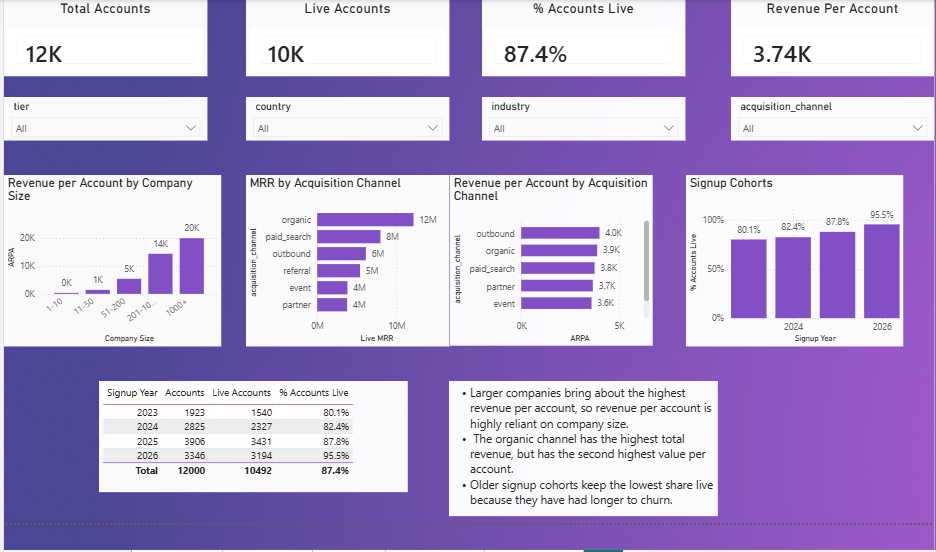

What the dashboard file says about the page in this screenshot:
{"tool":"powerbi","page":{"name":"Customers","canvas":[1280,720],"ordinal":3},"visuals":[{"type":"cardVisual","title":"Live Accounts","fields":{"Data":["subscriptions.Live Accounts"]},"box":[333.7,0,279.5,105.4],"z":0},{"type":"cardVisual","title":"% Accounts Live","fields":{"Data":["subscriptions.% Accounts Live"]},"box":[658.5,0,279.5,105.4],"z":1000},{"type":"cardVisual","title":"Revenue Per Account","fields":{"Data":["Measures (2).ARPA"]},"box":[1001,0,279.5,105.4],"z":2000},{"type":"cardVisual","title":"Total Accounts","fields":{"Data":["subscriptions.Accounts"]},"box":[0,0,279.5,105.4],"z":3000},{"type":"clusteredColumnChart","title":"Revenue per Account by Company Size","fields":{"Y":["Measures (2).ARPA"],"Category":["accounts.Company Size"]},"box":[0,241.5,298.5,235.6],"z":4000},{"type":"clusteredBarChart","title":"MRR by Acquisition Channel","fields":{"Category":["accounts.acquisition_channel"],"Y":["Measures (2).Live MRR"]},"box":[333.7,241.5,279.5,235.6],"z":5000},{"type":"clusteredBarChart","title":"Revenue per Account by Acquisition Channel","fields":{"Category":["accounts.acquisition_channel"],"Y":["Measures (2).ARPA"]},"box":[613.8,240.9,279.4,235.4],"z":6000},{"type":"clusteredColumnChart","title":"Signup Cohorts","fields":{"Category":["accounts.Signup Year"],"Y":["subscriptions.% Accounts Live"]},"box":[938,241.5,299,236],"z":7000},{"type":"tableEx","fields":{"Values":["accounts.Signup Year","subscriptions.Accounts","subscriptions.Live Accounts","subscriptions.% Accounts Live"]},"box":[130.8,524.4,425.3,152.8],"z":8000},{"type":"slicer","fields":{"Values":["plans.tier"]},"box":[0,133.2,279.5,60],"z":10000},{"type":"slicer","fields":{"Values":["accounts.country"]},"box":[333.7,133.2,279.5,60],"z":11000},{"type":"slicer","fields":{"Values":["accounts.industry"]},"box":[658.5,133.2,279.5,60],"z":12000},{"type":"slicer","fields":{"Values":["accounts.acquisition_channel"]},"box":[1001,133.2,279.5,60],"z":13000},{"type":"textbox","box":[612.5,524.4,370.2,185.8],"z":14000}]}

Visuals, with their boxes in screenshot pixels (x1, y1, x2, y2):
"Live Accounts" cardVisual: (x1=246, y1=0, x2=447, y2=76)
"% Accounts Live" cardVisual: (x1=480, y1=0, x2=681, y2=76)
"Revenue Per Account" cardVisual: (x1=727, y1=0, x2=928, y2=76)
"Total Accounts" cardVisual: (x1=5, y1=0, x2=206, y2=76)
"Revenue per Account by Company Size" clusteredColumnChart: (x1=5, y1=174, x2=220, y2=344)
"MRR by Acquisition Channel" clusteredBarChart: (x1=246, y1=174, x2=447, y2=344)
"Revenue per Account by Acquisition Channel" clusteredBarChart: (x1=448, y1=174, x2=649, y2=343)
"Signup Cohorts" clusteredColumnChart: (x1=681, y1=174, x2=897, y2=344)
tableEx - accounts.Signup Year x subscriptions.Accounts: (x1=99, y1=378, x2=406, y2=488)
slicer - plans.tier: (x1=5, y1=96, x2=206, y2=139)
slicer - accounts.country: (x1=246, y1=96, x2=447, y2=139)
slicer - accounts.industry: (x1=480, y1=96, x2=681, y2=139)
slicer - accounts.acquisition_channel: (x1=727, y1=96, x2=928, y2=139)
textbox: (x1=447, y1=378, x2=714, y2=512)
